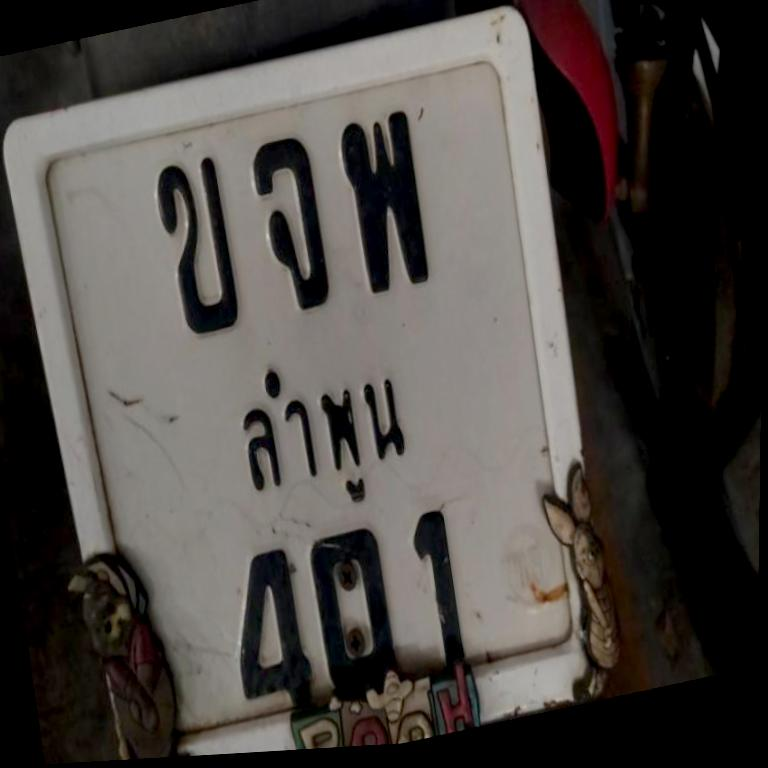license plate: (4, 7, 609, 760)
